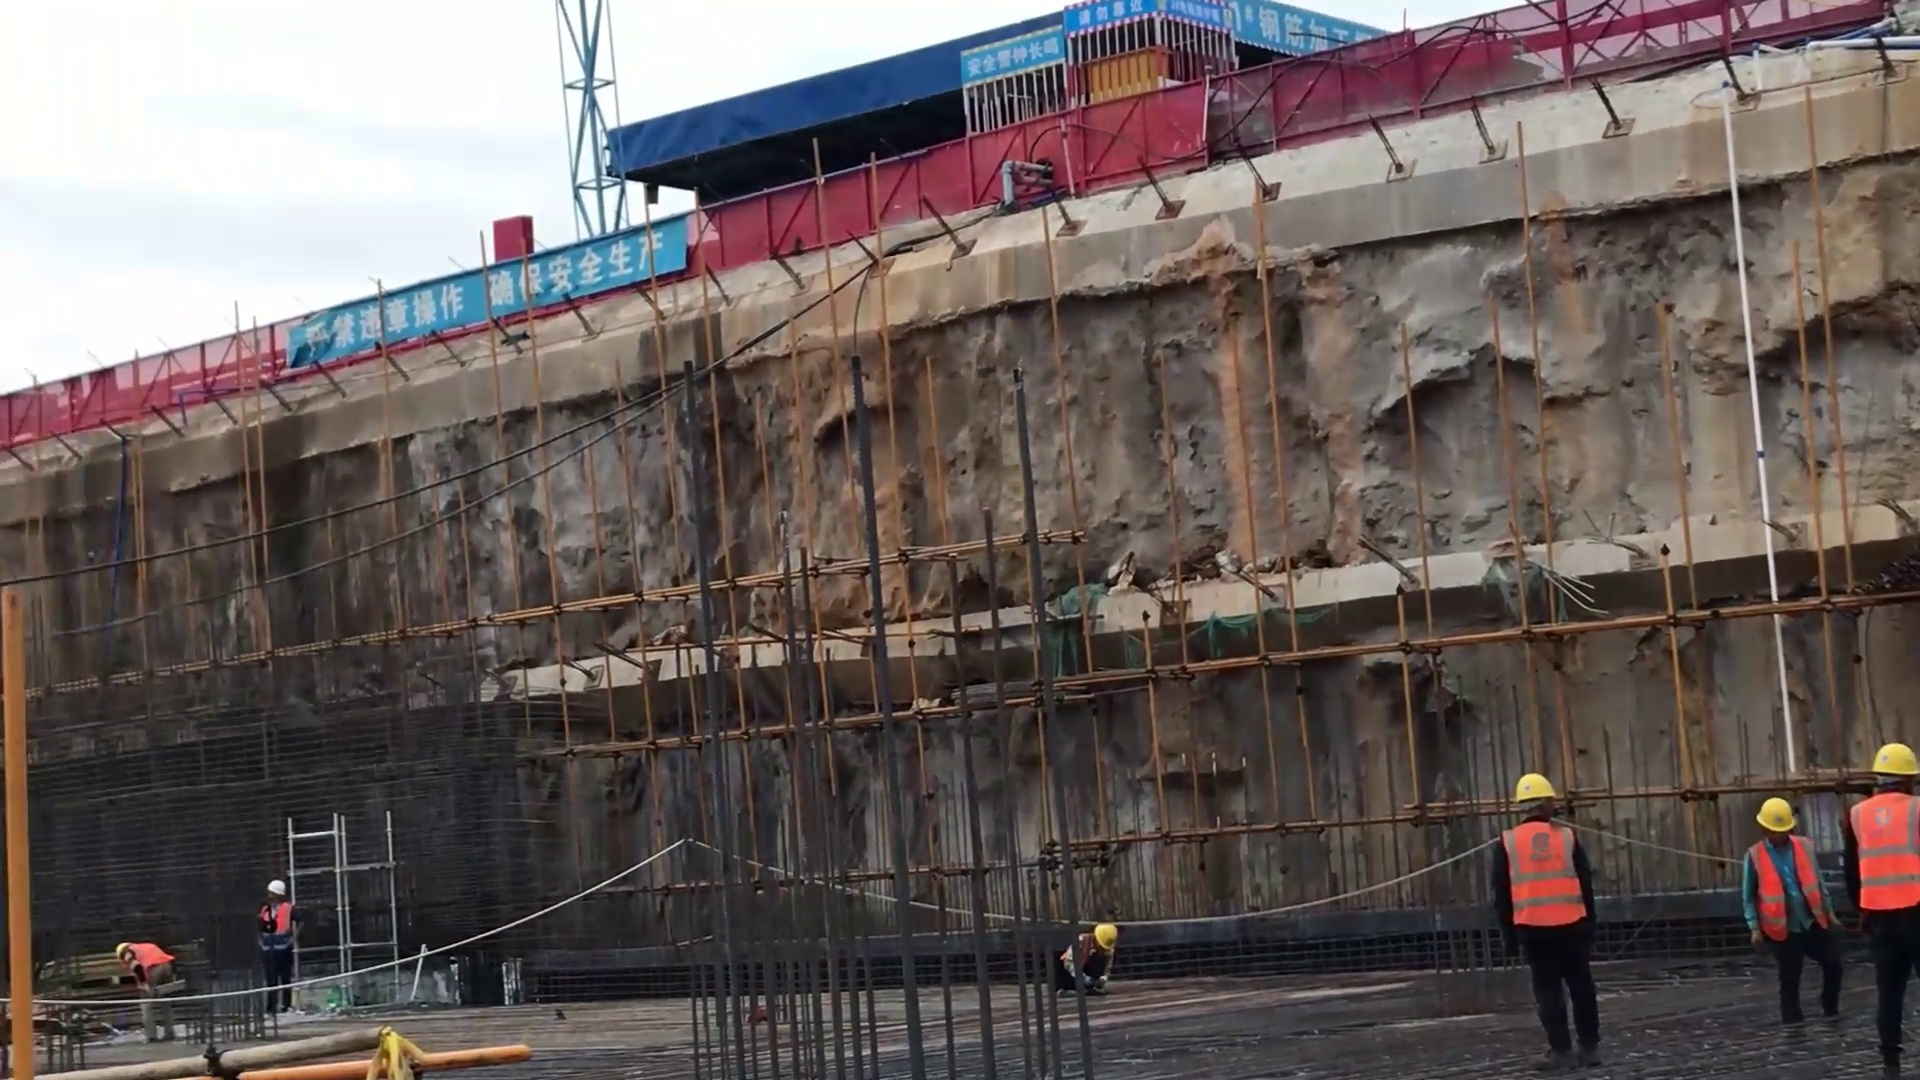helmet: (1505, 771, 1564, 805), (1872, 740, 1919, 781), (1753, 797, 1799, 836), (1093, 925, 1124, 951), (266, 877, 286, 900), (113, 941, 129, 960)
person: (1481, 769, 1615, 1079), (1738, 792, 1848, 1056), (1838, 738, 1920, 1068), (105, 939, 184, 1047), (252, 879, 304, 1010), (1053, 922, 1124, 999)
vest: (1497, 822, 1593, 940), (1748, 838, 1832, 949), (1848, 796, 1920, 918), (257, 903, 299, 960), (127, 940, 178, 982)
